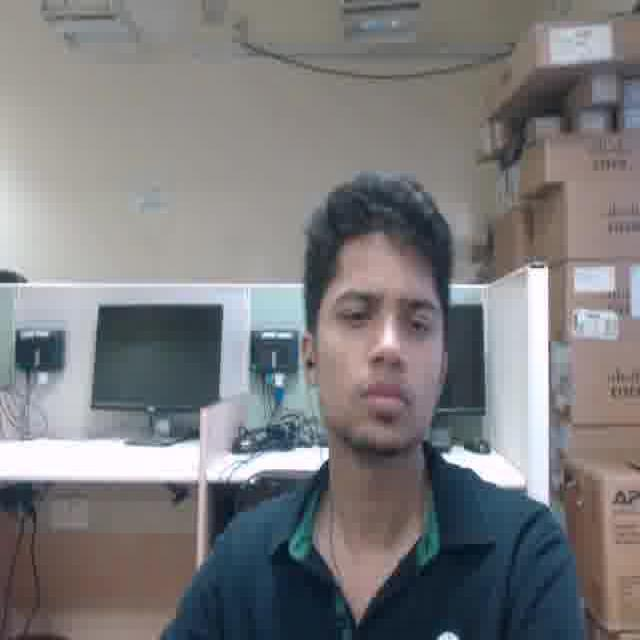Confusion: (314, 236, 440, 443)
